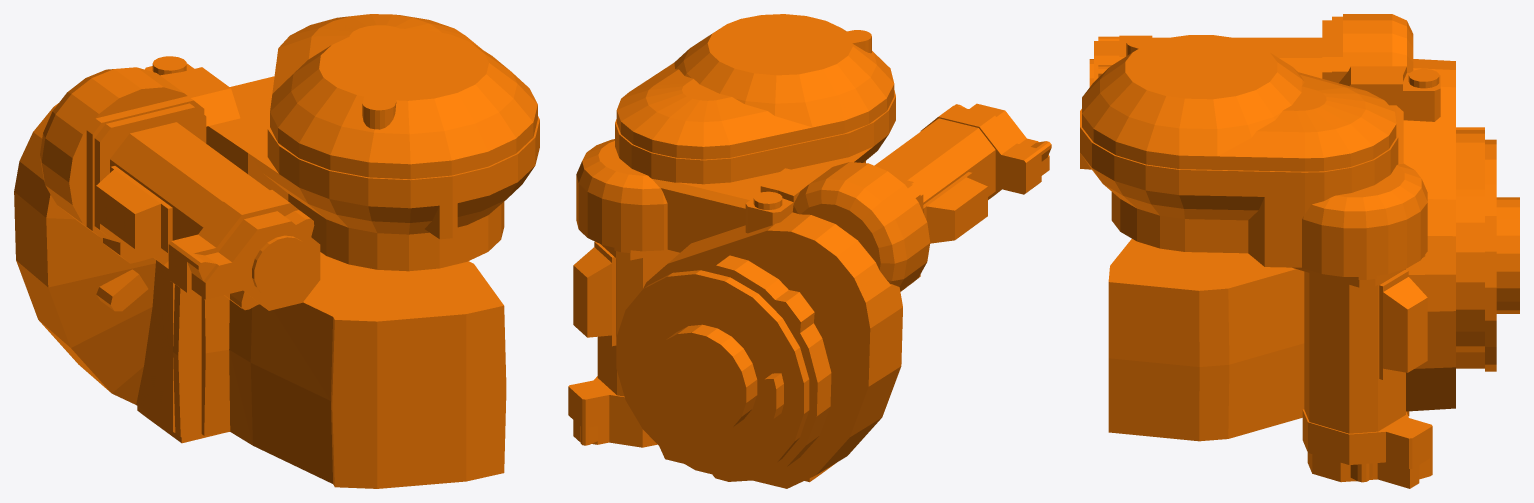
3 renders of one model, left to right at view 1: azimuth 30°, elevation 25°; view 2: azimuth 150°, elevation 25°; view 3: azimuth 270°, elevation 25°, orthographic. The views are drawn at different scales.
Parts seen in each view (by area): view 1: <STL_BINARY>; view 2: <STL_BINARY>; view 3: <STL_BINARY>.
Part boxes in pixels (bbox=[...]): <STL_BINARY>: bbox=[14, 14, 539, 488]; <STL_BINARY>: bbox=[568, 14, 1051, 488]; <STL_BINARY>: bbox=[1080, 14, 1519, 488].
Size of the model in its own units: 1.37 by 1.33 by 1.43.
